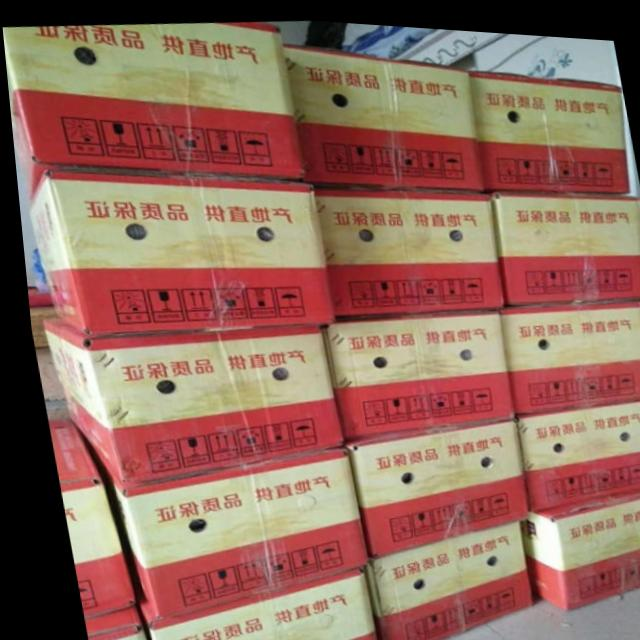box: (2, 17, 298, 201), (23, 167, 333, 336), (36, 317, 336, 479), (83, 444, 358, 617), (281, 39, 485, 185), (336, 407, 520, 554), (317, 301, 508, 433), (308, 183, 501, 312), (356, 518, 524, 640), (468, 63, 625, 183), (125, 563, 365, 640), (39, 418, 127, 617), (493, 291, 640, 407), (490, 184, 640, 296), (510, 478, 640, 603), (508, 387, 640, 505), (72, 600, 134, 640)
